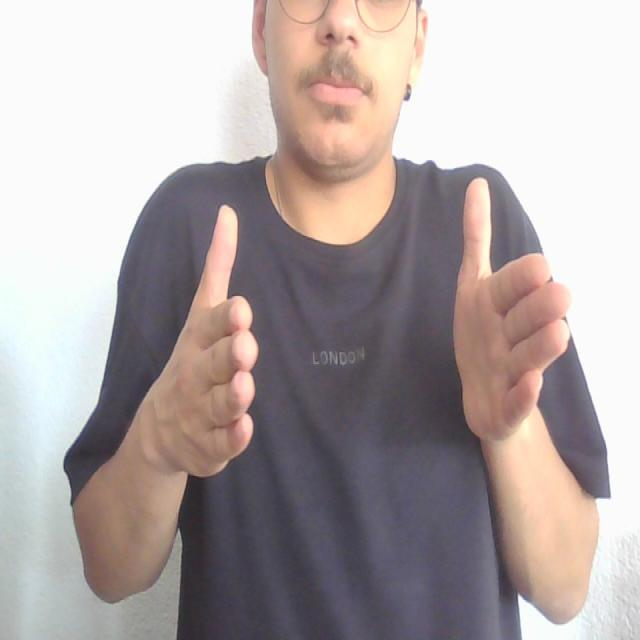Nasil: (168, 178, 576, 494)
